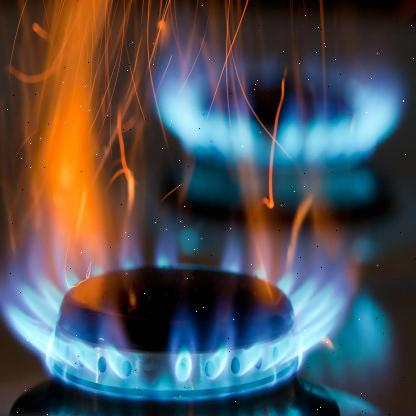fire: (0, 7, 373, 416), (136, 17, 402, 181)
